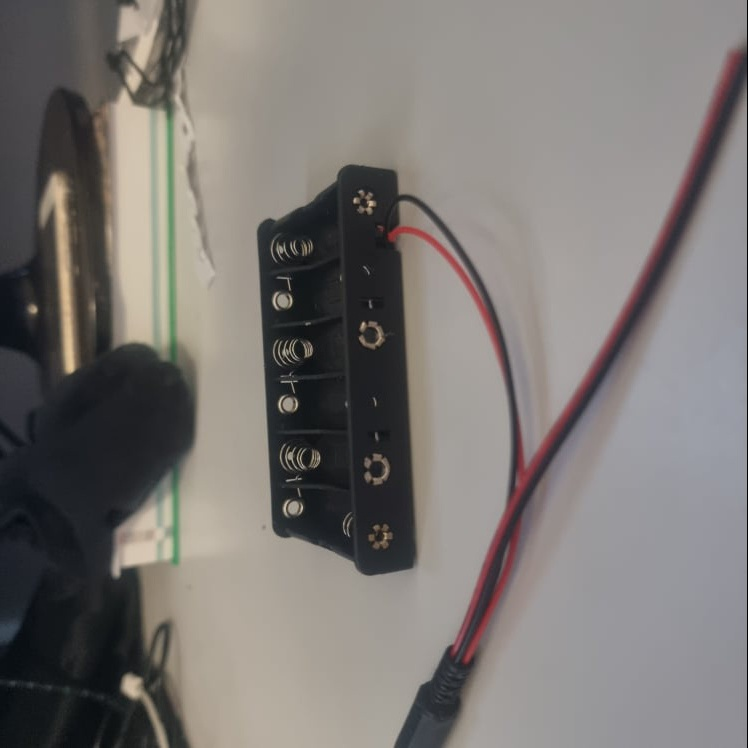BATTERY BOX: (254, 164, 425, 577)
